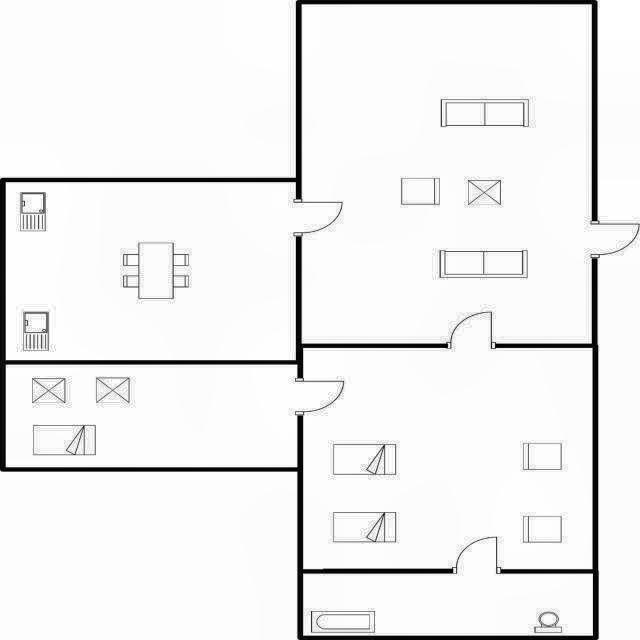room: (302, 4, 591, 343), (303, 348, 592, 569), (6, 183, 296, 360), (6, 364, 297, 466), (304, 574, 593, 636)
